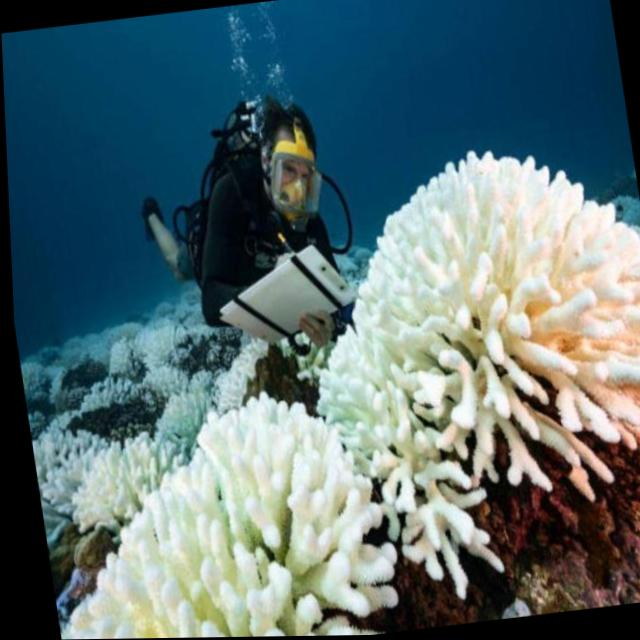Bleached Coral: (10, 262, 640, 640), (336, 140, 640, 594)
